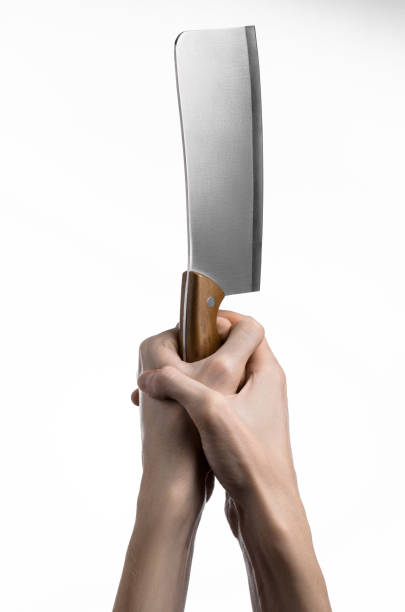knife: (158, 20, 280, 426)
